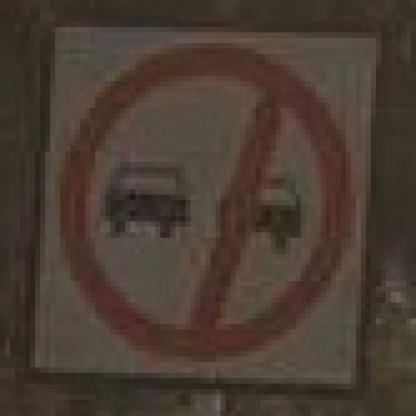No Overtaking: (26, 25, 386, 396)
